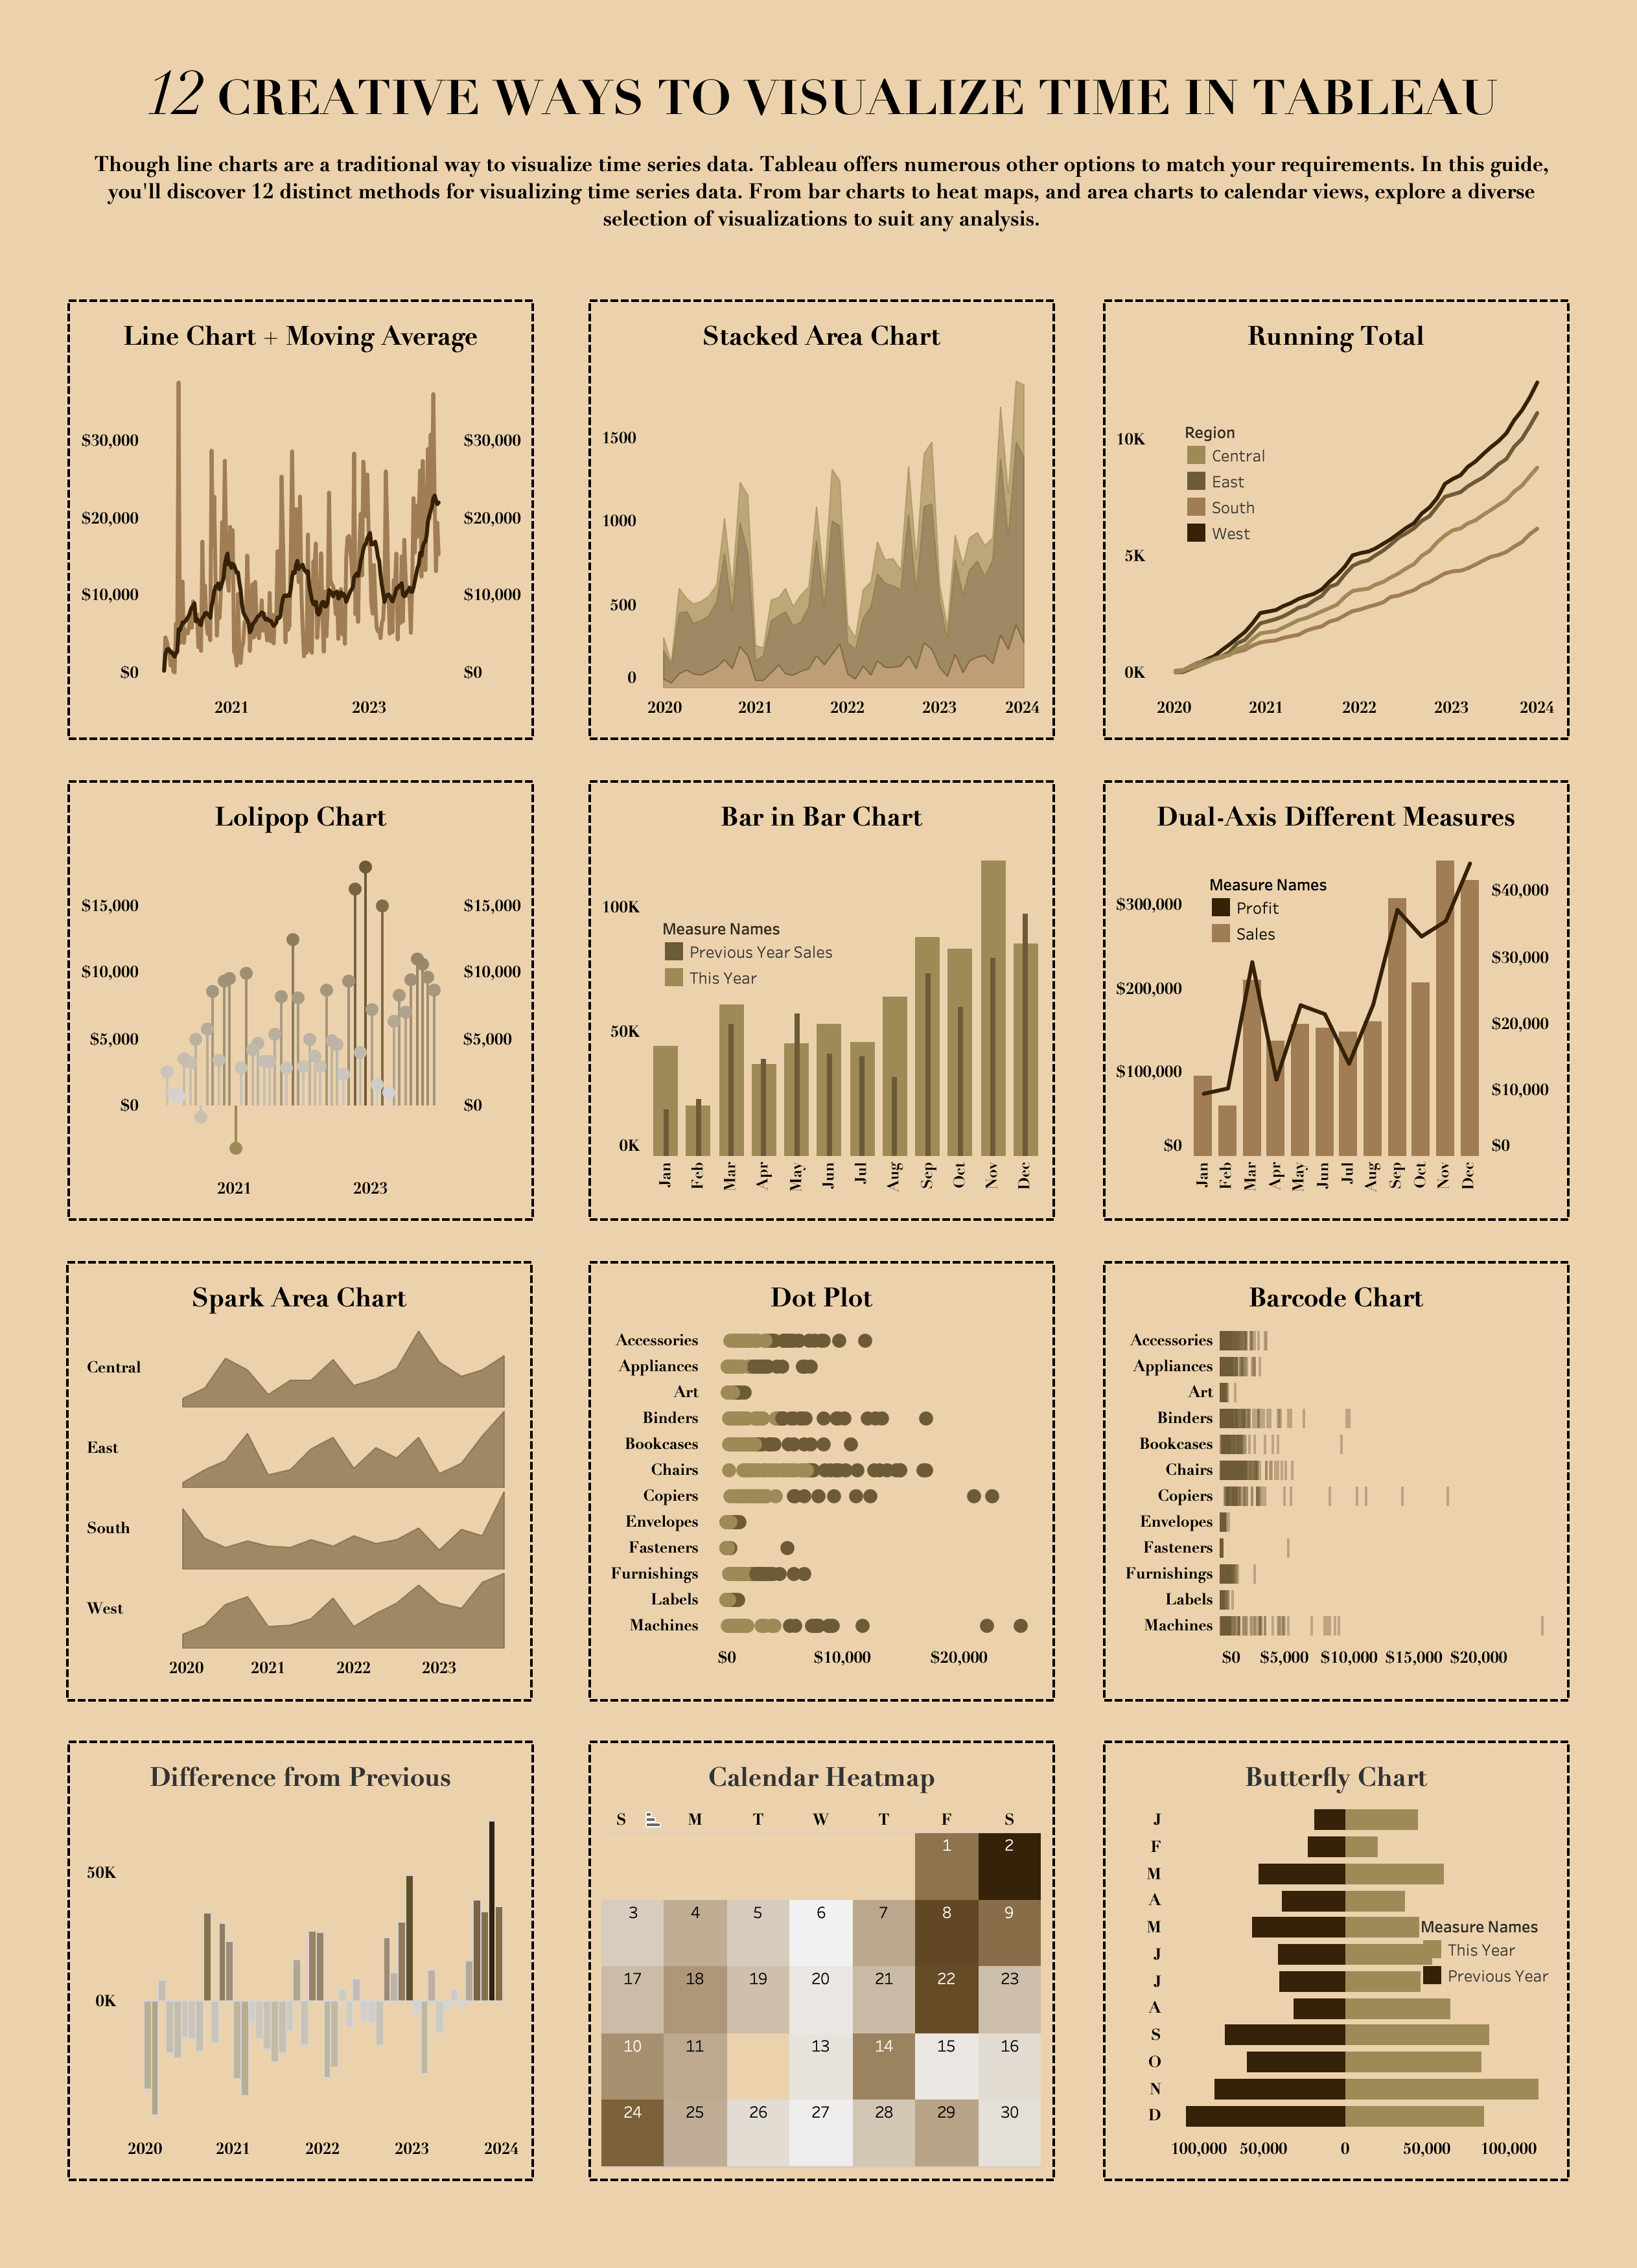

The page's visual inventory and layout, read from the dashboard file:
{"tool":"tableau","page":{"name":"12 Ways - Dashboard","canvas":[1000,1000],"units":"permille","ordinal":0},"visuals":[{"type":"text","box":[42,12,920,104]},{"type":"worksheet","title":"Line Chart + Moving Average","mark":"Automatic","rows":["Sales"],"cols":["Order Date"],"box":[41.2,132,285,194.3]},{"type":"worksheet","title":"Stacked Area Chart","mark":"Area","rows":["Quantity"],"cols":["Order Date"],"box":[359.5,132,285,194.3]},{"type":"worksheet","title":"Running Total","mark":"Automatic","rows":["Quantity"],"cols":["Order Date"],"box":[673.8,132,285,194.3]},{"type":"legend","title":"Running Total","param":"[federated.10nnk8d1vgmw8q17yu76u06pnbcj].[none:Region:nk]","box":[722.9,184.6,73.6,56]},{"type":"worksheet","title":"Lolipop Chart","mark":"Bar","rows":["Profit","Profit"],"cols":["Order Date"],"box":[41.2,344,285,194.3]},{"type":"worksheet","title":"Bar in Bar Chart","mark":"Bar","cols":["Order Date"],"box":[359.5,344,285,194.3]},{"type":"worksheet","title":"Dual-Axis Different Measures","mark":"Bar","rows":["Sales","Profit"],"cols":["Order Date"],"box":[673.8,344,285,194.3]},{"type":"legend","title":"Dual-Axis Different Measures","param":"[federated.10nnk8d1vgmw8q17yu76u06pnbcj].[:Measure Names]","box":[737.9,384,78.4,33.1]},{"type":"legend","title":"Bar in Bar Chart","param":"[federated.10nnk8d1vgmw8q17yu76u06pnbcj].[:Measure Names]","box":[403.8,403.4,115.6,35.4]},{"type":"worksheet","title":"Spark Area Chart","mark":"Area","rows":["Region","Sales"],"cols":["Order Date"],"box":[40.4,556,285,194.3]},{"type":"worksheet","title":"Dot plot","mark":"Circle","rows":["Sub-Category"],"cols":["Sales"],"box":[359.5,556,285,194.3]},{"type":"worksheet","title":"Barcode Chart","mark":"GanttBar","rows":["Sub-Category"],"cols":["Sales"],"box":[673.8,556,285,194.3]},{"type":"worksheet","title":"Difference from Previous","mark":"Bar","rows":["Calculation_118852820411850756"],"cols":["Order Date"],"box":[41.2,767.4,285,194.3]},{"type":"worksheet","title":"Calendar Heatmap","mark":"Square","rows":["Order Date","Order Date"],"cols":["Order Date"],"box":[359.5,767.4,285,194.3]},{"type":"worksheet","title":"Butterfly Chart","mark":"Bar","rows":["Order Date"],"box":[673.8,767.4,285,194.3]},{"type":"legend","title":"Butterfly Chart","param":"[federated.10nnk8d1vgmw8q17yu76u06pnbcj].[:Measure Names]","box":[867,843.4,90.3,33.1]}]}

Visuals, with their boxes on the dashboard's canvas, which has no fixed pixel size, in thousandths of its width and height (x1, y1, x2, y2). These are canvas units, not pixel positions in the 1637x2268 screenshot, which may show the page scaled, cropped or inside an application window:
text: [left=42, top=12, right=962, bottom=116]
"Line Chart + Moving Average" worksheet: [left=41, top=132, right=326, bottom=326]
"Stacked Area Chart" worksheet (Area marks): [left=360, top=132, right=644, bottom=326]
"Running Total" worksheet: [left=674, top=132, right=959, bottom=326]
"Running Total" legend: [left=723, top=185, right=796, bottom=241]
"Lolipop Chart" worksheet (Bar marks): [left=41, top=344, right=326, bottom=538]
"Bar in Bar Chart" worksheet (Bar marks): [left=360, top=344, right=644, bottom=538]
"Dual-Axis Different Measures" worksheet (Bar marks): [left=674, top=344, right=959, bottom=538]
"Dual-Axis Different Measures" legend: [left=738, top=384, right=816, bottom=417]
"Bar in Bar Chart" legend: [left=404, top=403, right=519, bottom=439]
"Spark Area Chart" worksheet (Area marks): [left=40, top=556, right=325, bottom=750]
"Dot plot" worksheet (Circle marks): [left=360, top=556, right=644, bottom=750]
"Barcode Chart" worksheet (GanttBar marks): [left=674, top=556, right=959, bottom=750]
"Difference from Previous" worksheet (Bar marks): [left=41, top=767, right=326, bottom=962]
"Calendar Heatmap" worksheet (Square marks): [left=360, top=767, right=644, bottom=962]
"Butterfly Chart" worksheet (Bar marks): [left=674, top=767, right=959, bottom=962]
"Butterfly Chart" legend: [left=867, top=843, right=957, bottom=876]
